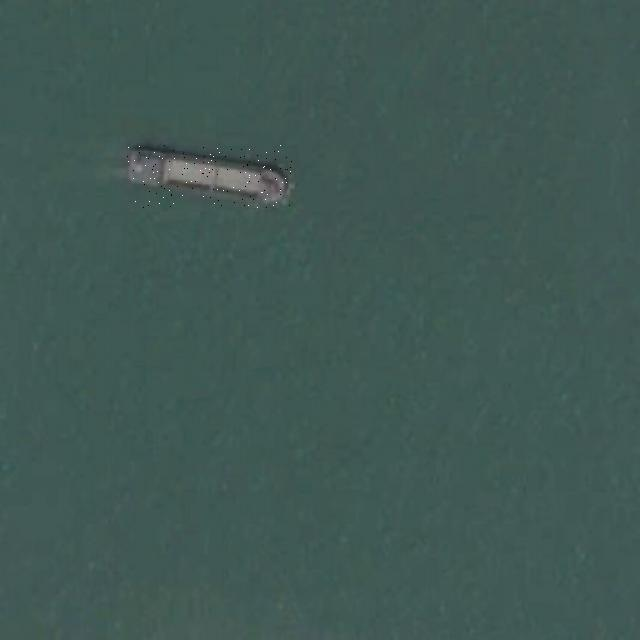boat: (128, 145, 294, 208)
